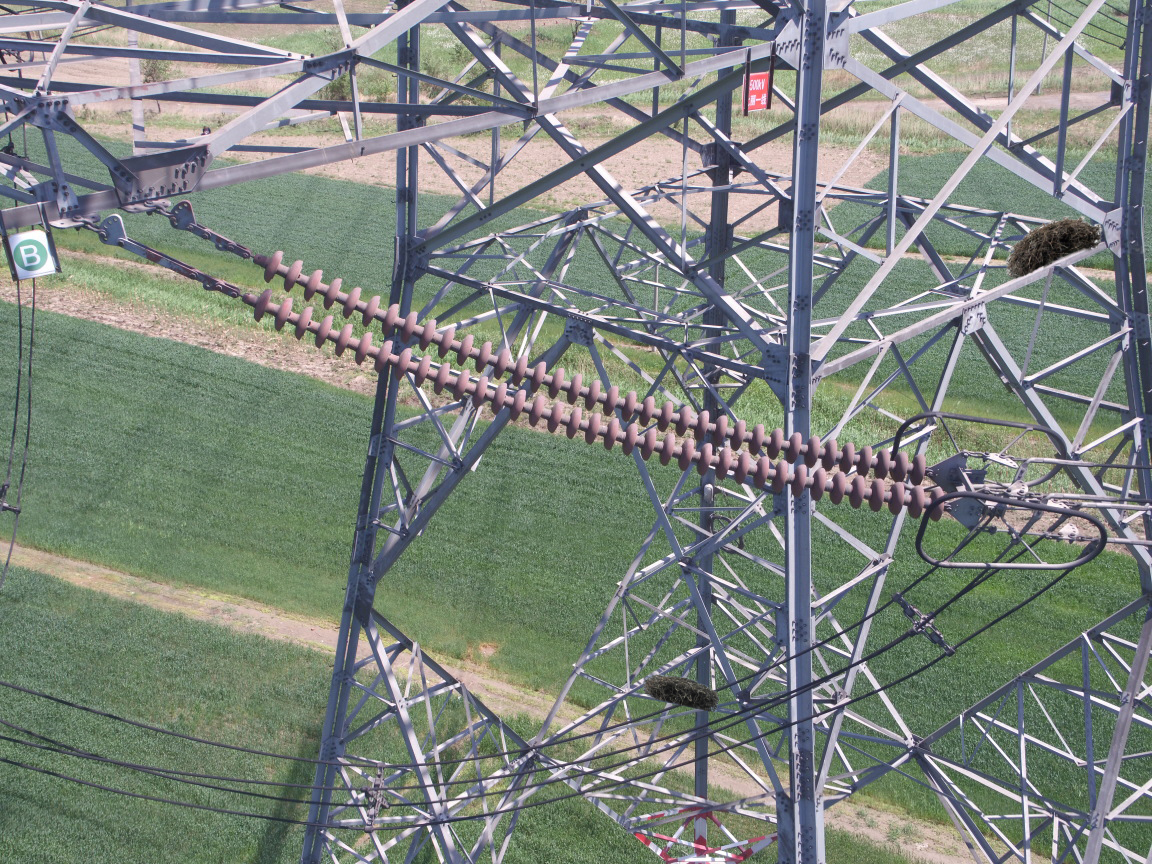nest: (1005, 208, 1101, 287), (640, 671, 721, 715)
